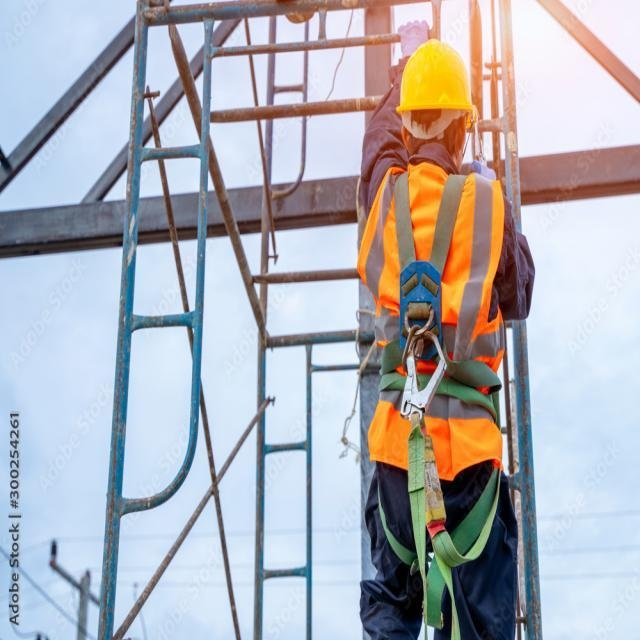Arnes_seguridad: (368, 159, 491, 424)
